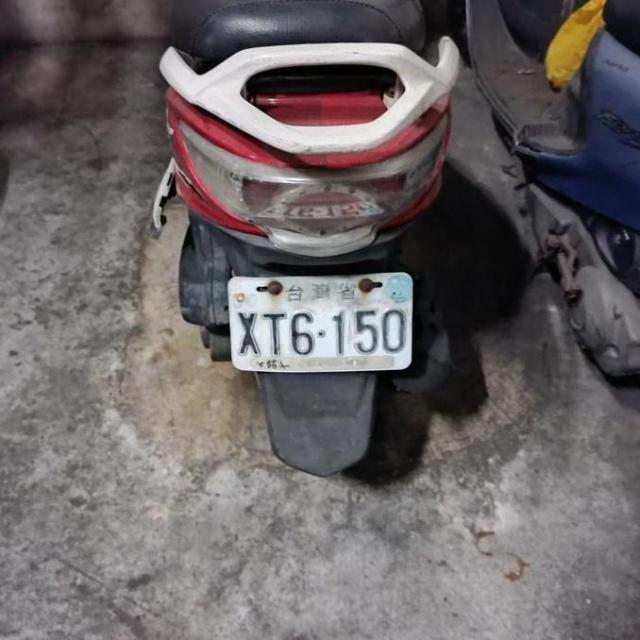W: (225, 269, 417, 375)
